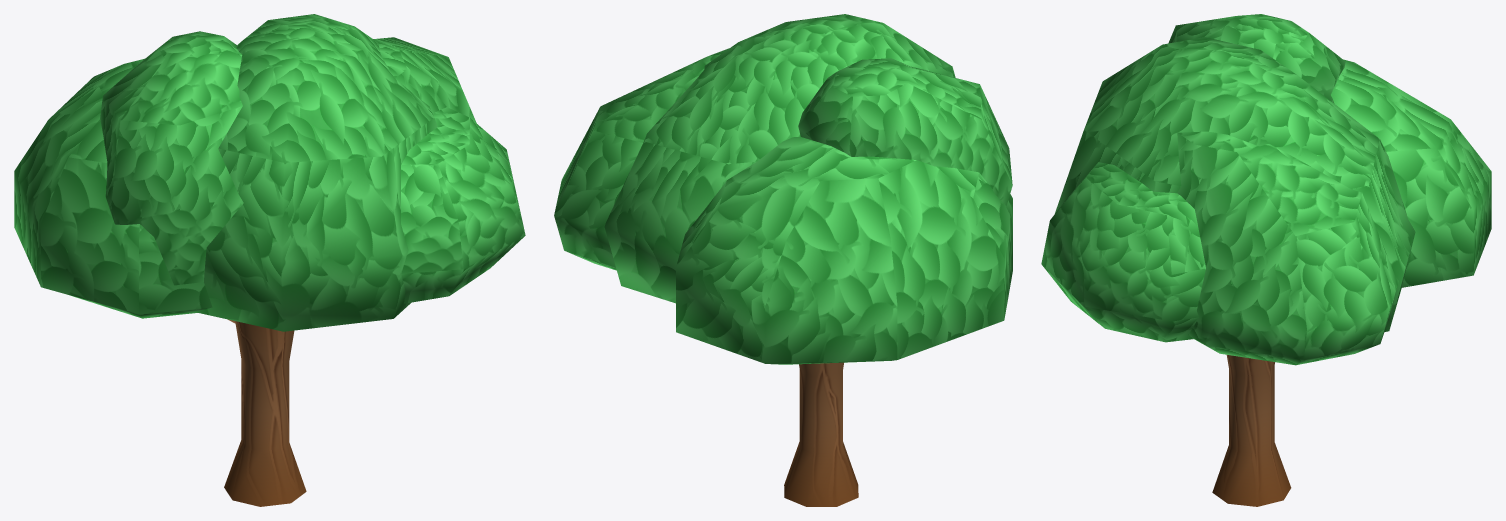
The model's file is french_tree_01.fbx.
3 renders of one model, left to right at view 1: azimuth 30°, elevation 25°; view 2: azimuth 150°, elevation 25°; view 3: azimuth 270°, elevation 25°, orthographic. The views are drawn at different scales.
Parts seen in each view (by area): view 1: polySurface239; view 2: polySurface239; view 3: polySurface239.
Boxes of the visible parts, x1,y1,x2,y2 form: polySurface239: [14, 14, 525, 506]; polySurface239: [554, 14, 1012, 506]; polySurface239: [1041, 14, 1491, 506].
Bounding box in the file's own units: 5.28 × 5.24 × 4.79.
